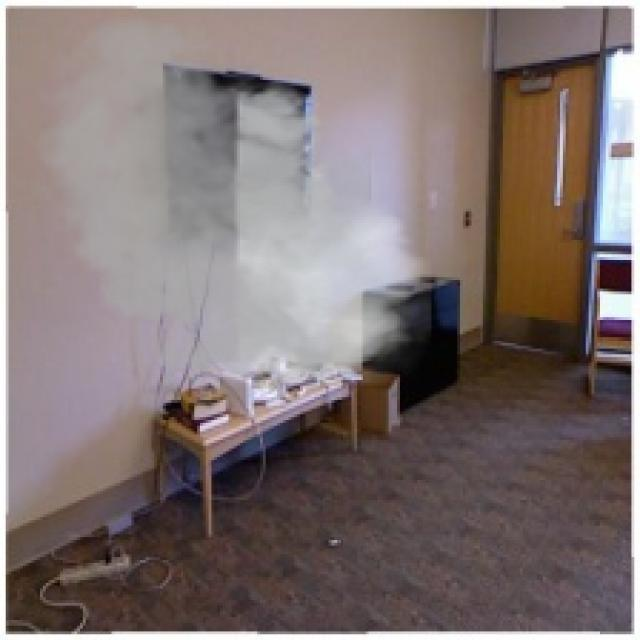Smoke: (19, 8, 432, 400)
